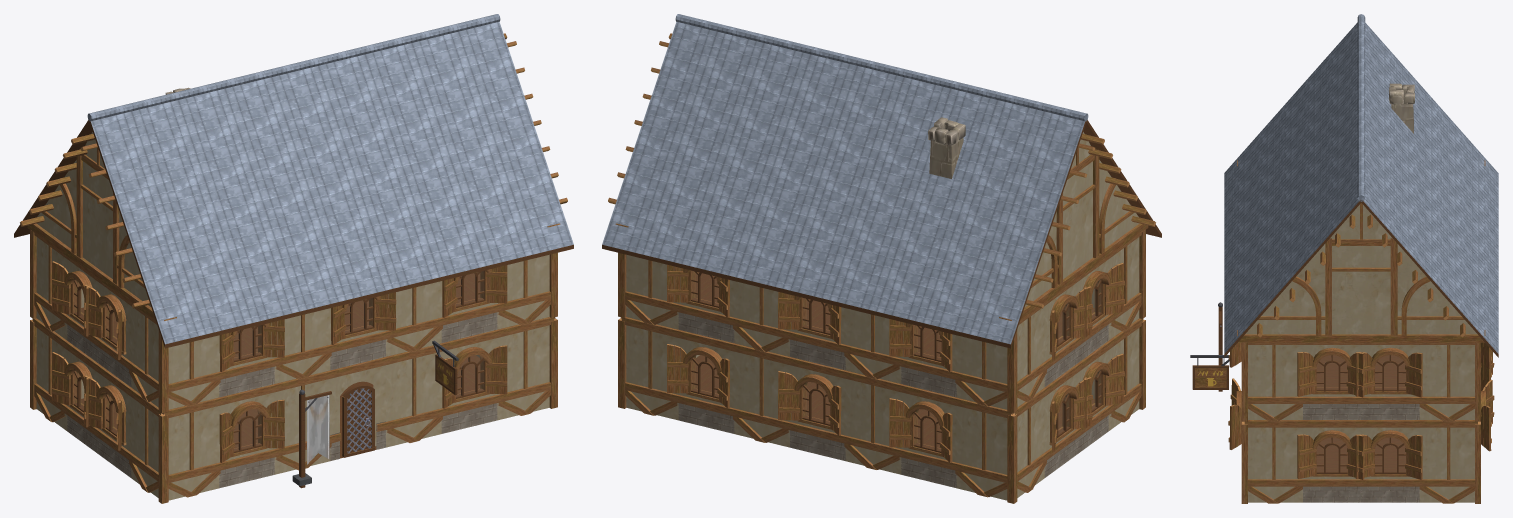
File: inn.glb
The picture shows the model from 3 angles, left to right: view 1: azimuth 30°, elevation 25°; view 2: azimuth 150°, elevation 25°; view 3: azimuth 270°, elevation 25°; orthographic projection. The views are drawn at different scales.
Visible parts, largest first — view 1: Wall_Plaster_Straight.001; view 2: Wall_Plaster_Straight.001; view 3: Wall_Plaster_Straight.001.
Part boxes in pixels (box(x1,y1,x2,y2)): Wall_Plaster_Straight.001: box(14, 14, 573, 503); Wall_Plaster_Straight.001: box(602, 14, 1161, 503); Wall_Plaster_Straight.001: box(1190, 14, 1498, 503).
Bounding box in the file's own units: 20 × 15.4 × 13.56.
28 materials, 25 textured.
